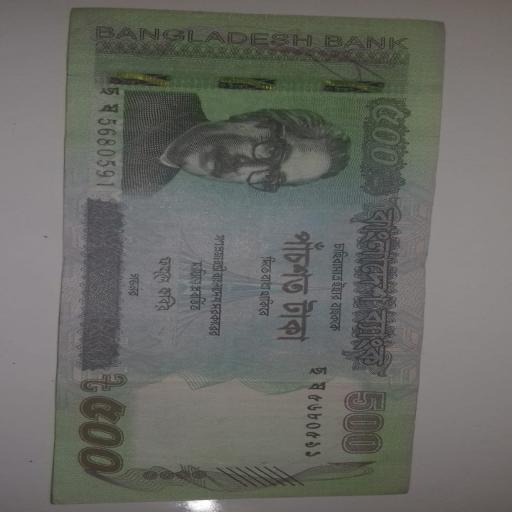500taka: (52, 8, 444, 502)
